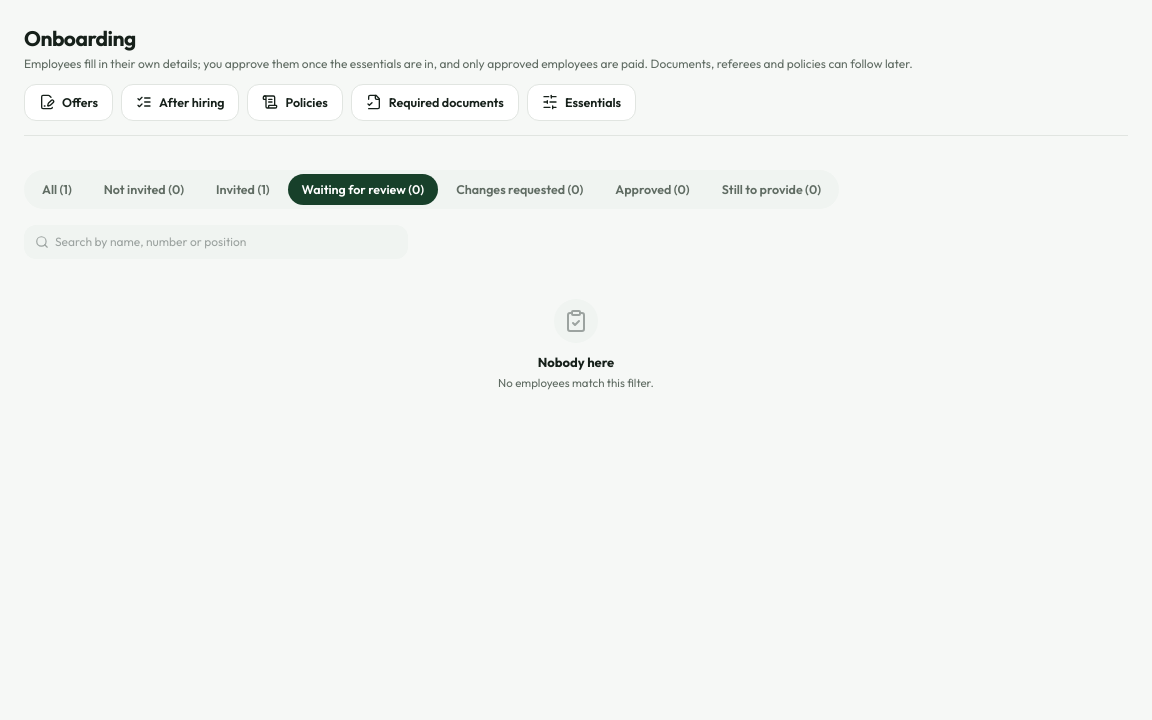
it: OnboardingReview › can’t approve for them while an essential is missing
Step 1. Click the button "All (1)" → (57, 189), box x1=28 y1=174 x2=86 y2=205
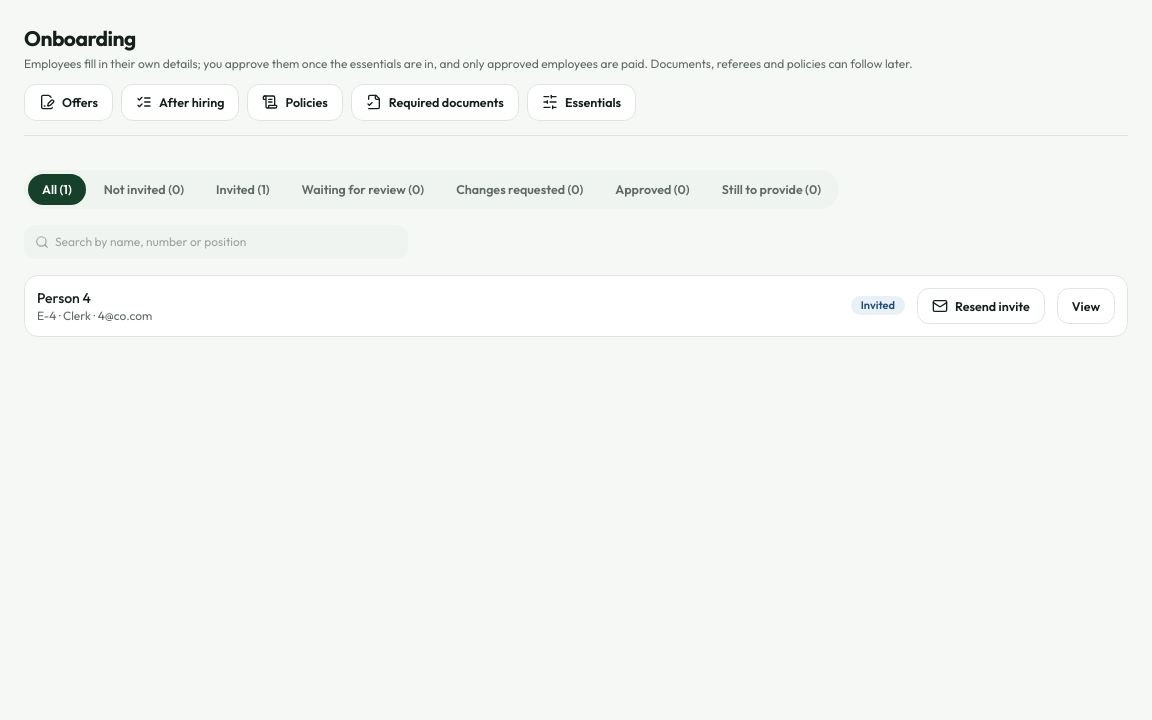
Step 2. Click the button "View" → (1086, 306), box x1=1057 y1=288 x2=1115 y2=324
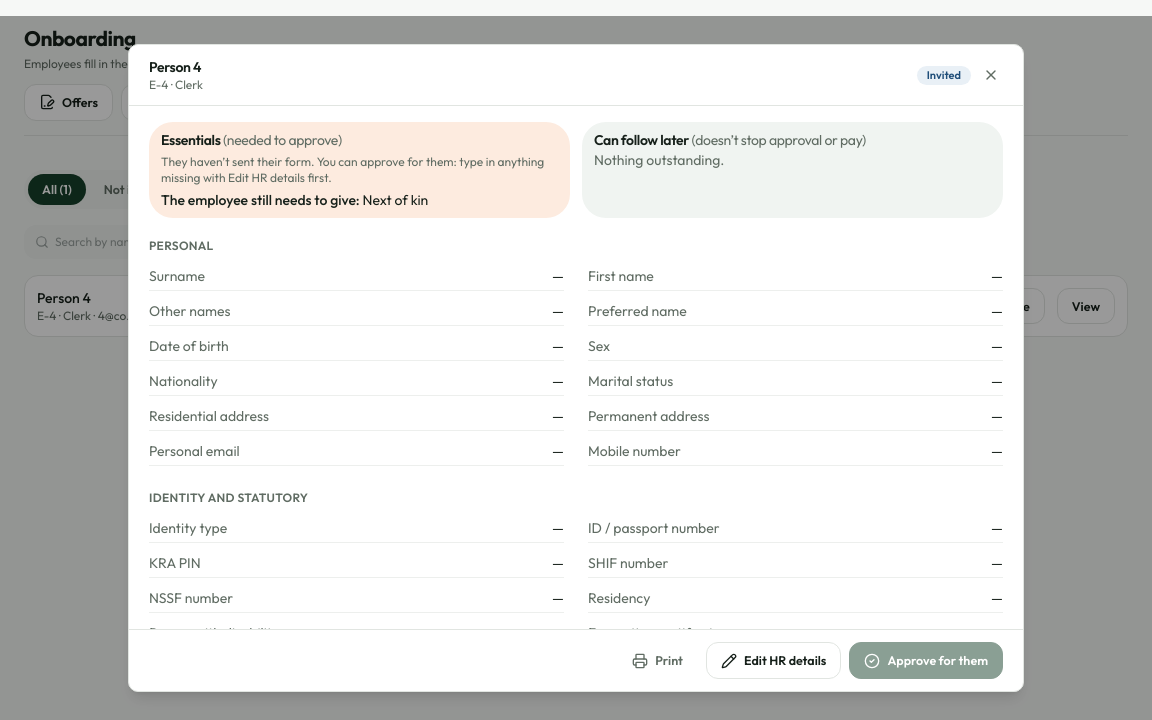
Expected: the text "Next of kin" is shown, x1=362 y1=191 x2=428 y2=209
Expected: the button "Approve for them" is disabled, x1=849 y1=642 x2=1003 y2=679
